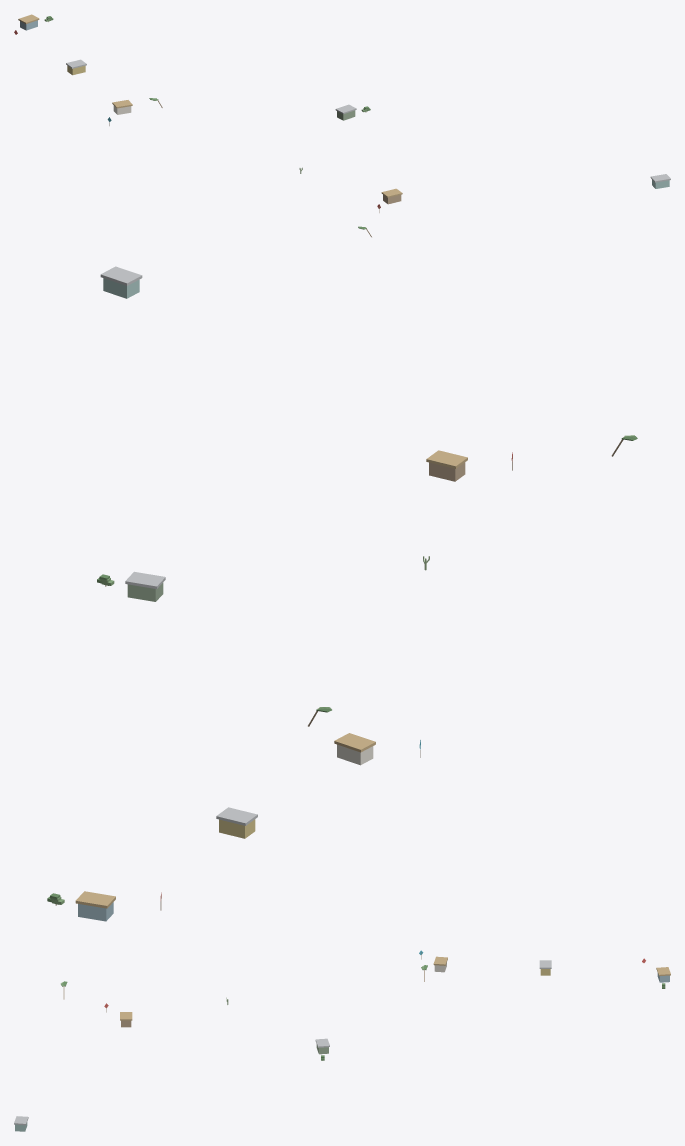
File: nw_hadi.glb
3 renders of one model, top to bottom at view 1: azimuth 30°, elevation 25°; view 2: azimuth 150°, elevation 25°; view 3: azimuth 270°, elevation 25°, orthographic. The views are drawn at different scales.
Visible parts, largest first — view 1: nw_hadi_lod0; view 2: nw_hadi_lod0; view 3: nw_hadi_lod0.
Part boxes in pixels (x1=…): nw_hadi_lod0: x1=14, y1=14, x2=670, y2=237; nw_hadi_lod0: x1=47, y1=266, x2=637, y2=921; nw_hadi_lod0: x1=14, y1=950, x2=670, y2=1131.
Size of what is drawn, in the model's own units: 126 by 5.33 by 200.
